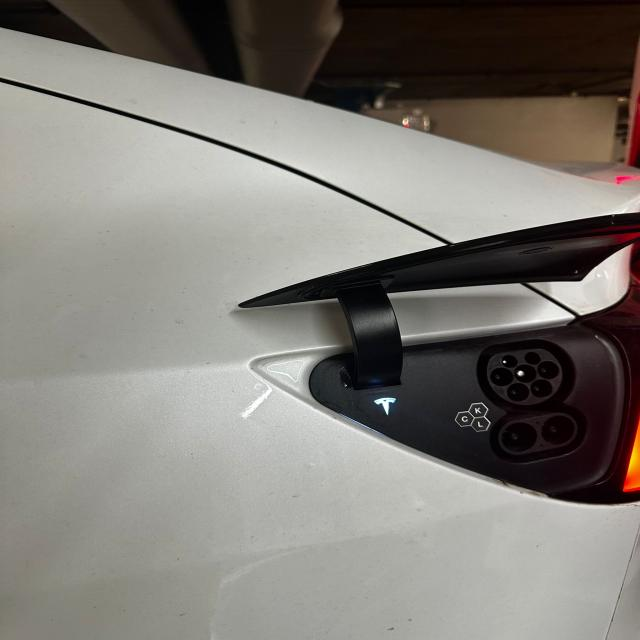inlet: (487, 349, 562, 405)
inlet-above-left: (501, 355, 518, 368)
inlet-above-right: (524, 352, 541, 365)
inlet-below-left: (507, 383, 530, 401)
inlet-below-right: (530, 379, 552, 398)
inlet-circle: (514, 364, 537, 383)
inlet-circle-left: (490, 367, 513, 387)
inlet-circle-right: (537, 361, 560, 379)
inlet-minus: (541, 415, 575, 444)
inlet-plus: (501, 422, 537, 452)
